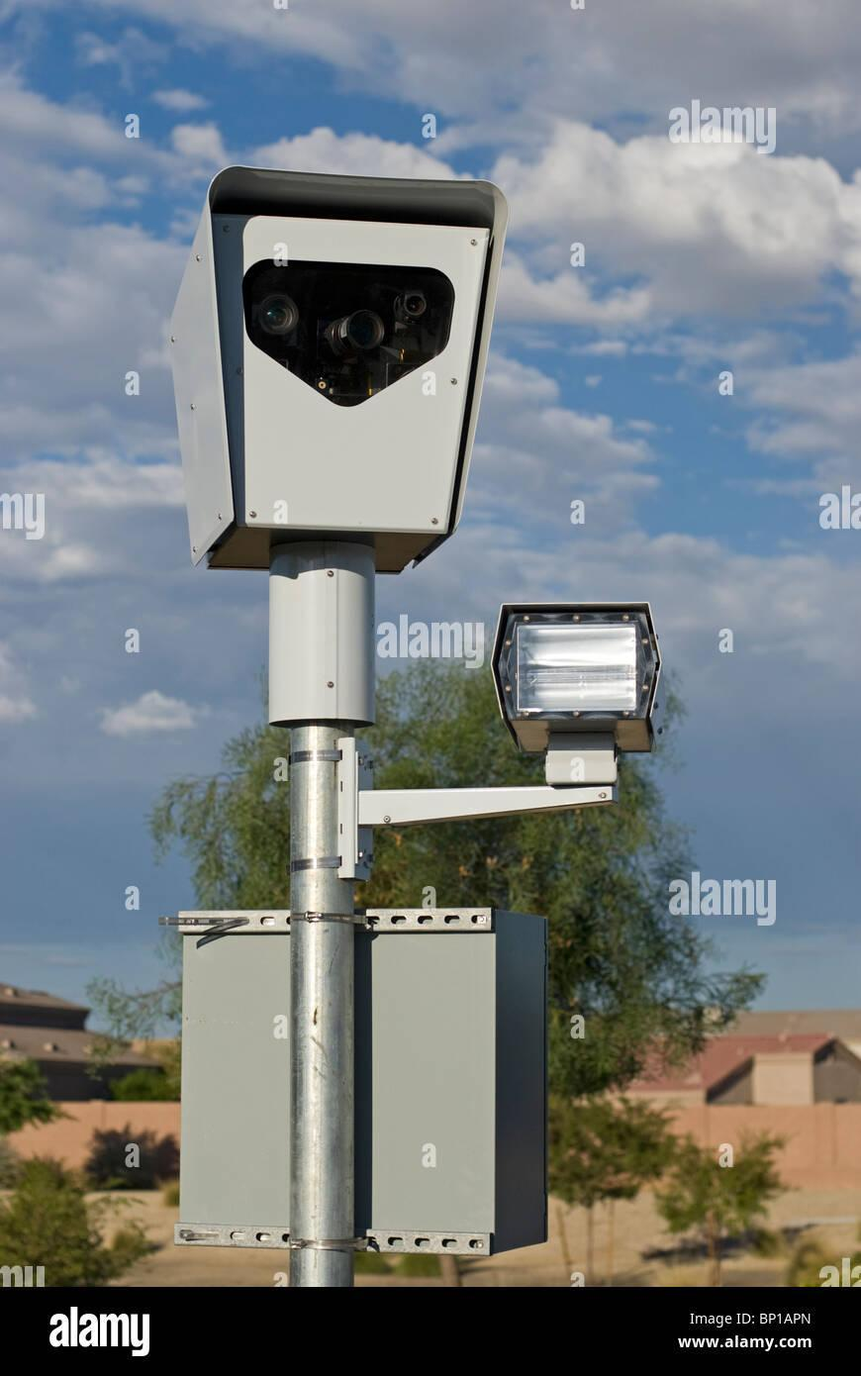Monitor: (168, 163, 508, 574)
